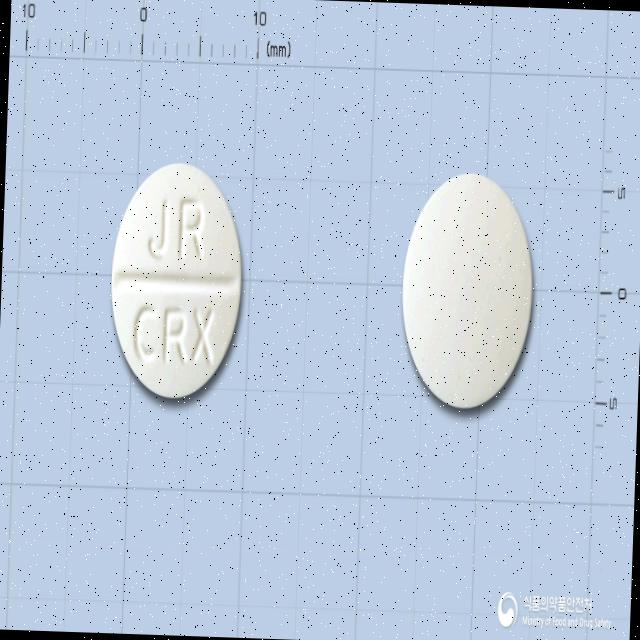Ciroxin - 250mg: (102, 156, 248, 412), (394, 166, 542, 418)
